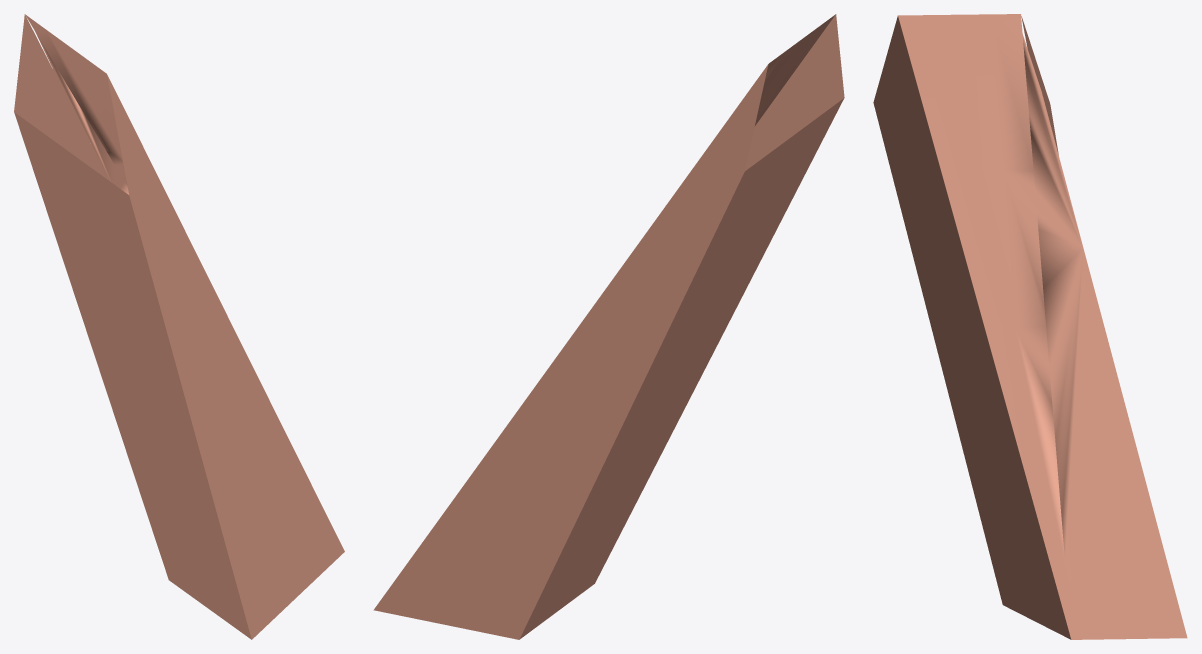
File: braco.glb
3 views of the same model, side by side, from view 1: azimuth 30°, elevation 25°; view 2: azimuth 150°, elevation 25°; view 3: azimuth 270°, elevation 25° (orthographic). The views are drawn at different scales.
Parts seen in each view (by area): view 1: Plane.001; view 2: Plane.001; view 3: Plane.001.
Part boxes in pixels (x1,y1,x2,y2): Plane.001: (14, 14, 344, 639); Plane.001: (373, 14, 844, 639); Plane.001: (873, 14, 1187, 639).
Size of the model in its own units: 0.782 by 1.42 by 0.7894.
